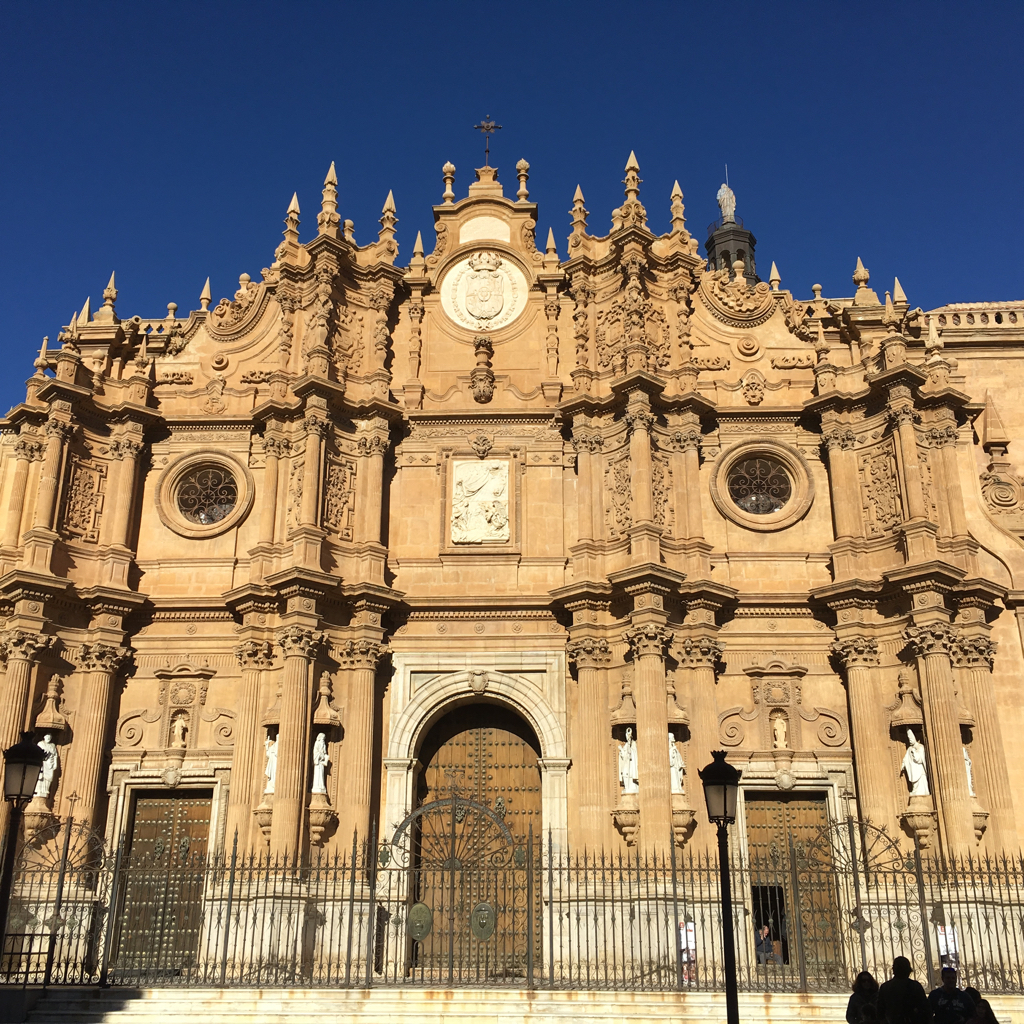arco-medio-punto: (389, 674, 558, 784)
ojo-de-buey: (705, 438, 814, 525), (154, 444, 249, 530)
vano-adintelado: (93, 760, 230, 985), (728, 760, 844, 989)
